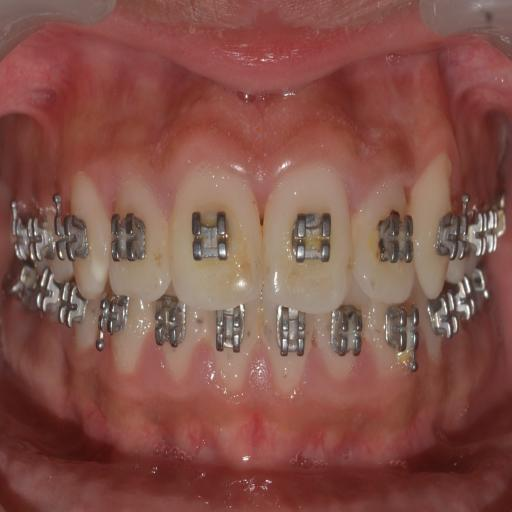correct_brace: (287, 204, 334, 271), (185, 204, 234, 268), (106, 209, 153, 270), (372, 206, 414, 270)
incorrect_brace: (346, 162, 417, 308), (105, 166, 172, 306)
